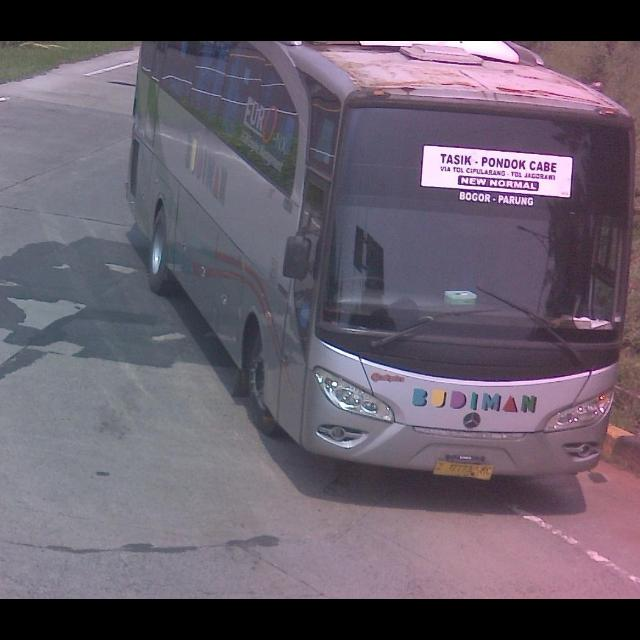plate: (432, 456, 494, 482)
